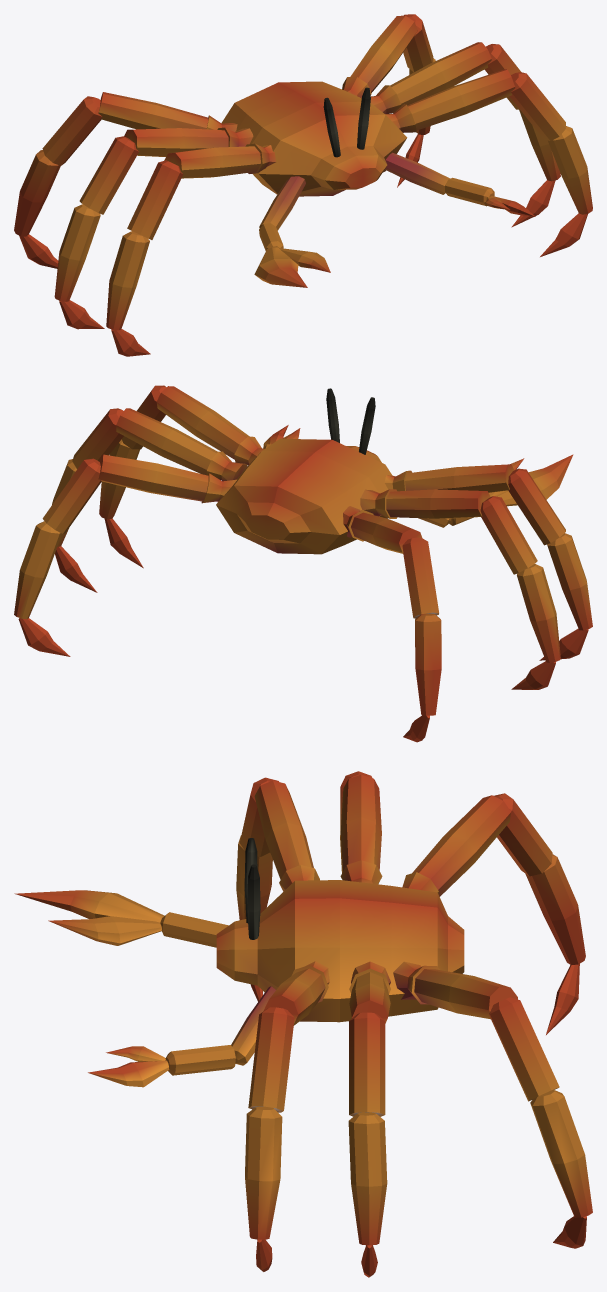
The model's file is BossCarangueijo.fbx.
3 renders of one model, top to bottom at view 1: azimuth 30°, elevation 25°; view 2: azimuth 150°, elevation 25°; view 3: azimuth 270°, elevation 25°, orthographic. The views are drawn at different scales.
Parts seen in each view (by area): view 1: Caranguejo; view 2: Caranguejo; view 3: Caranguejo.
Part boxes in pixels (x1,y1,x2,y2): Caranguejo: (14,14,592,356); Caranguejo: (14,385,592,742); Caranguejo: (14,771,592,1277).
Size of the model in its own units: 8843 by 3680 by 6697.
